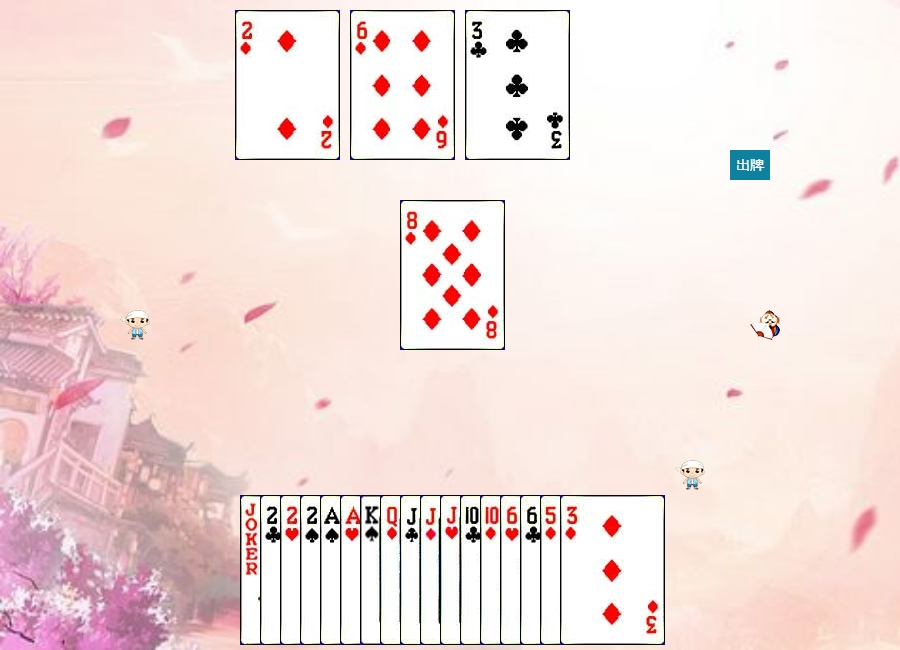10~1: (480, 495, 585, 645)
10~2: (460, 495, 565, 645)
11~1: (420, 495, 525, 645)
11~2: (400, 495, 505, 645)
11~3: (440, 495, 545, 645)
12~1: (380, 495, 485, 645)
13~4: (360, 495, 465, 645)
14~3: (340, 495, 445, 645)
14~4: (320, 495, 425, 645)
15~1: (235, 10, 340, 160)
15~2: (260, 495, 365, 645)
15~3: (280, 495, 385, 645)
15~4: (300, 495, 405, 645)
18~4: (240, 495, 345, 645)
3~1: (560, 495, 665, 645)
3~2: (465, 10, 570, 160)
5~1: (540, 495, 645, 645)
6~1: (350, 10, 455, 160)
6~2: (520, 495, 625, 645)
6~3: (500, 495, 605, 645)
8~1: (400, 200, 505, 350)
